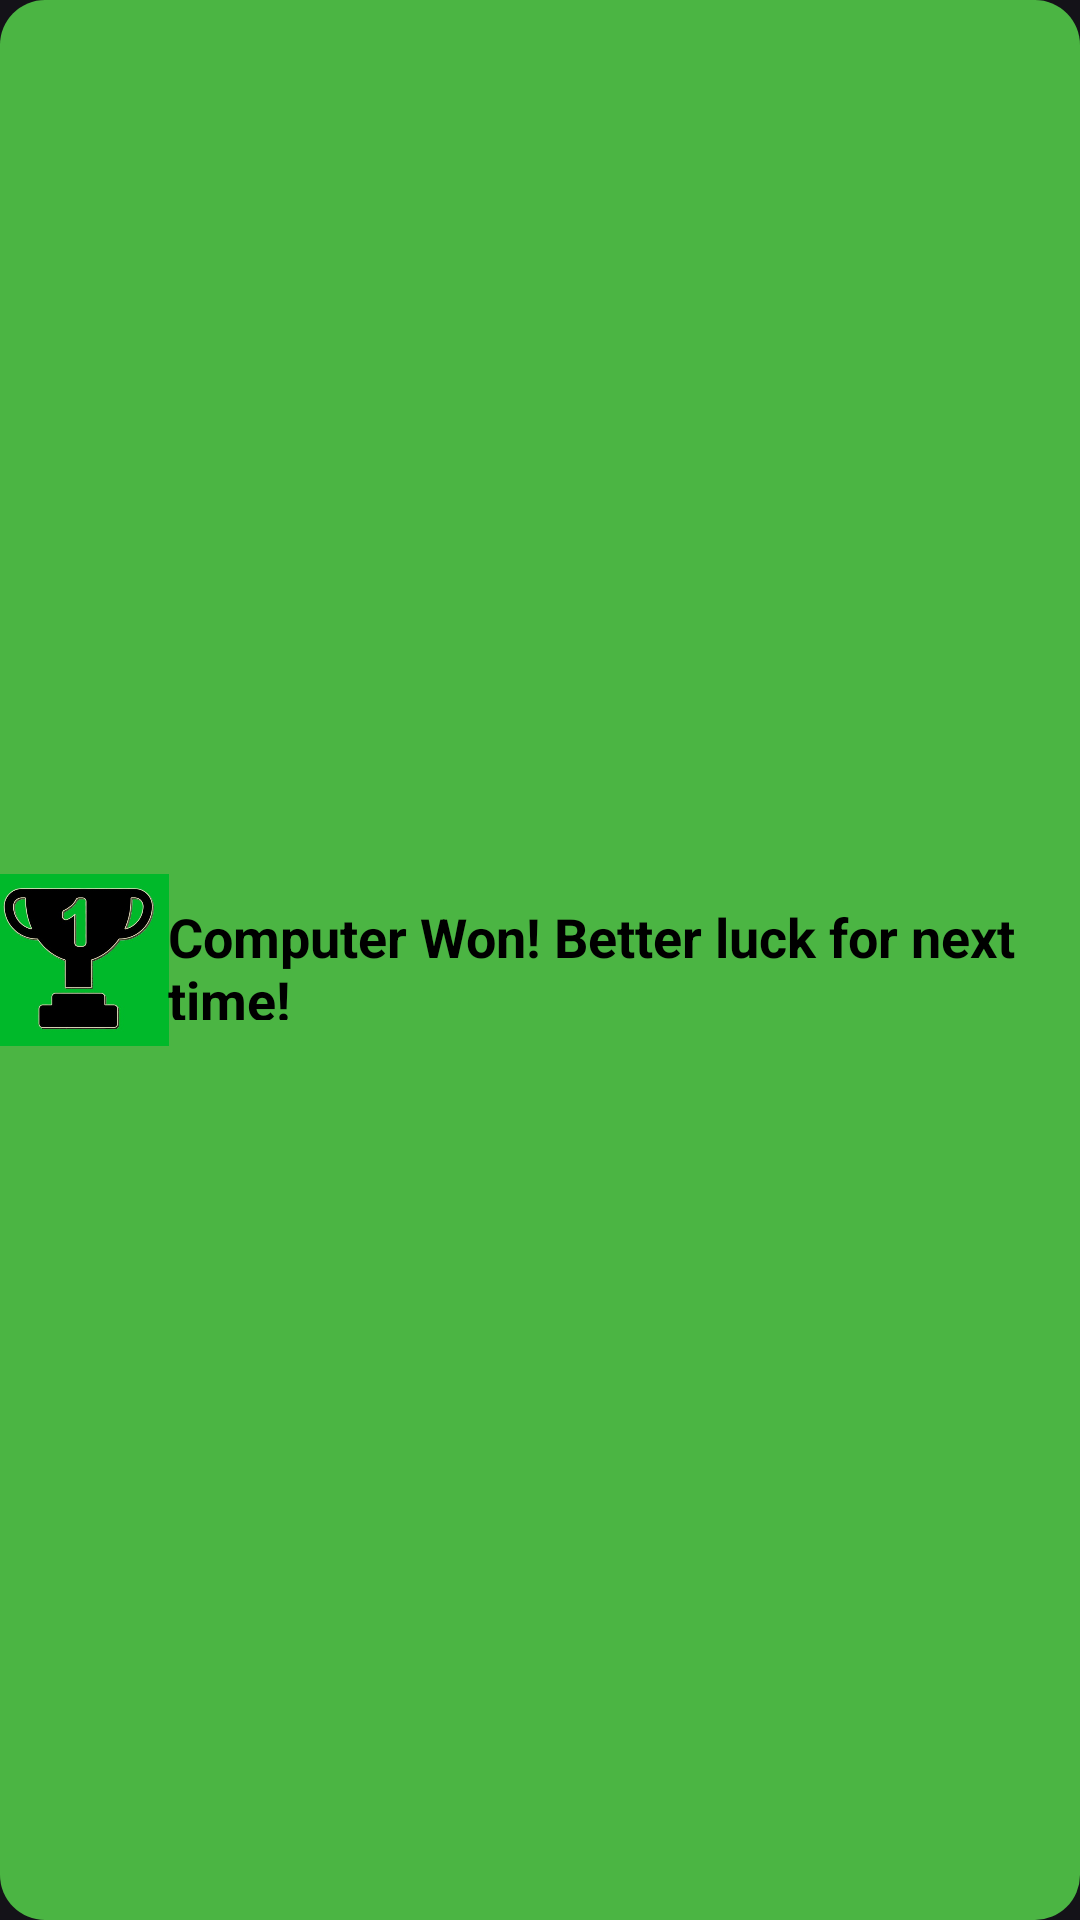

Icons on this 1080px x 1920px Android screen, each with the point to tap as point (x, y):
win: point (84, 960)
